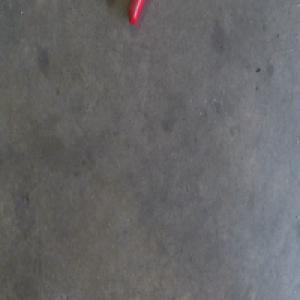Pliers: (127, 0, 146, 24)
